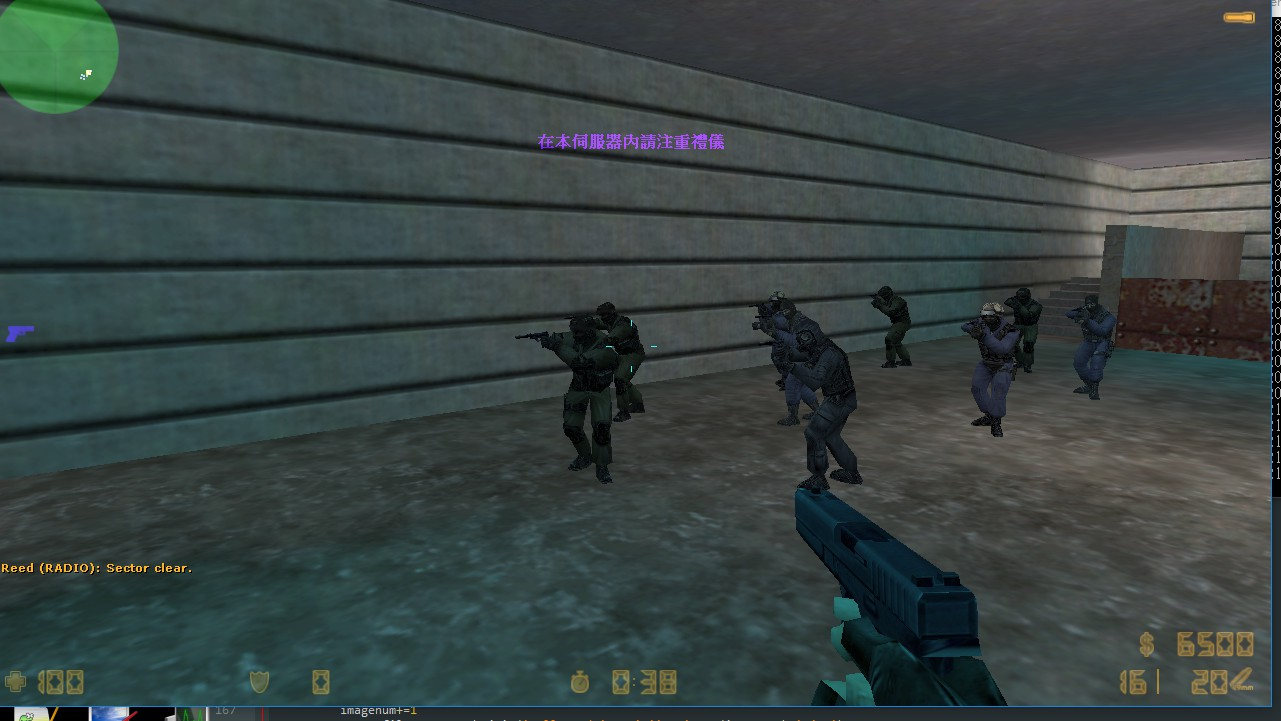person: (787, 322, 870, 493), (546, 309, 614, 483), (960, 295, 1020, 443), (595, 292, 653, 415), (1065, 288, 1113, 413), (870, 268, 921, 376), (752, 291, 798, 395), (1018, 281, 1040, 368)
